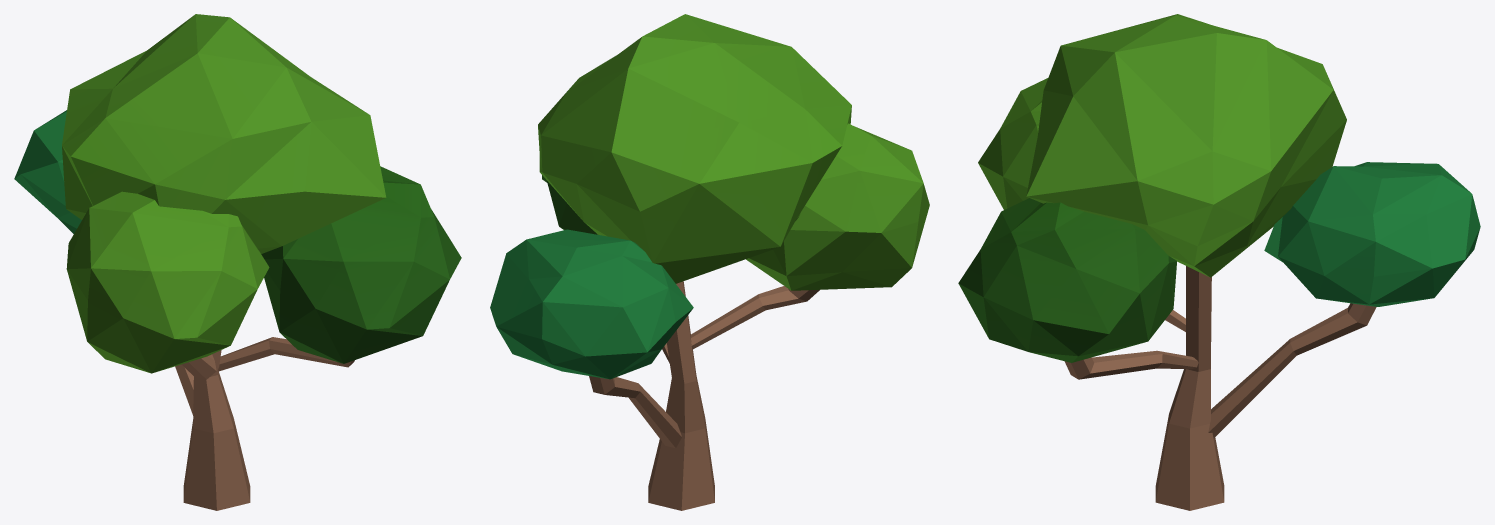
Rendered from tree_5.FBX.
The picture shows the model from 3 angles, left to right: view 1: azimuth 30°, elevation 25°; view 2: azimuth 150°, elevation 25°; view 3: azimuth 270°, elevation 25°; orthographic projection. The views are drawn at different scales.
Visible parts, largest first — view 1: tree_5; view 2: tree_5; view 3: tree_5.
Part boxes in pixels (x1=…): tree_5: x1=14, y1=14, x2=461, y2=510; tree_5: x1=490, y1=14, x2=929, y2=510; tree_5: x1=958, y1=14, x2=1480, y2=510.
Bounding box in the file's own units: 105 × 127 × 127.
